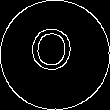O_S: (32, 28, 78, 82)
